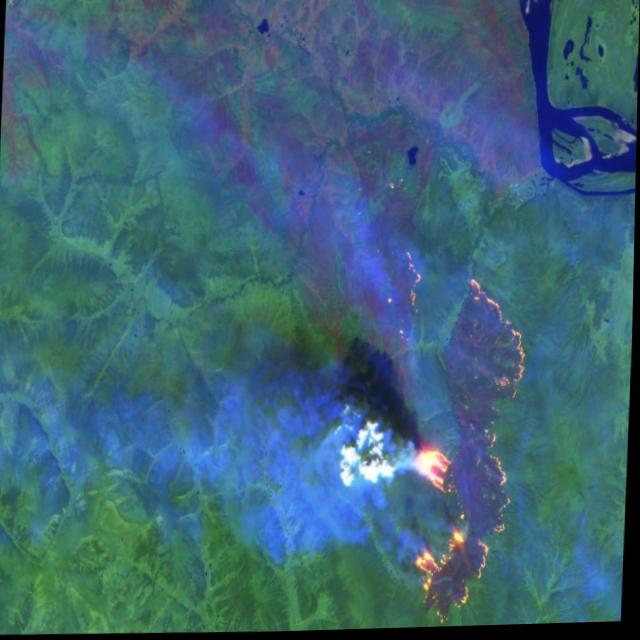fire: (402, 257, 535, 630)
